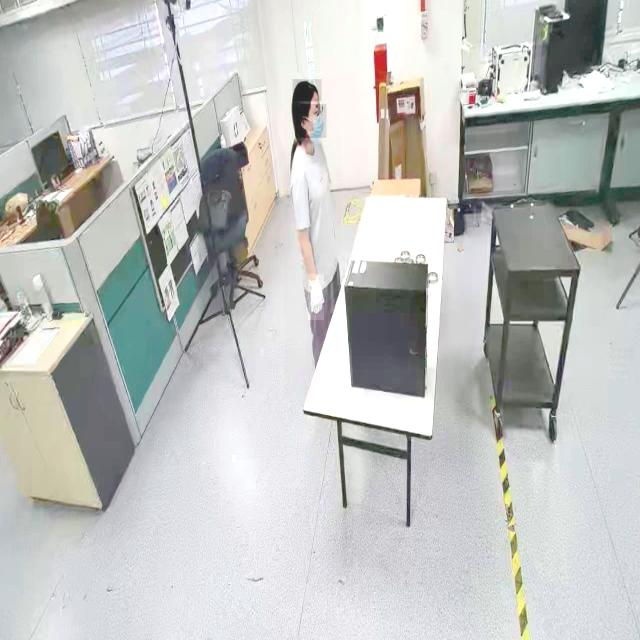face_mask: (300, 104, 326, 138)
hand_glove: (308, 274, 324, 321)
head_nohelmet: (292, 79, 322, 102)
person: (284, 76, 341, 396)
